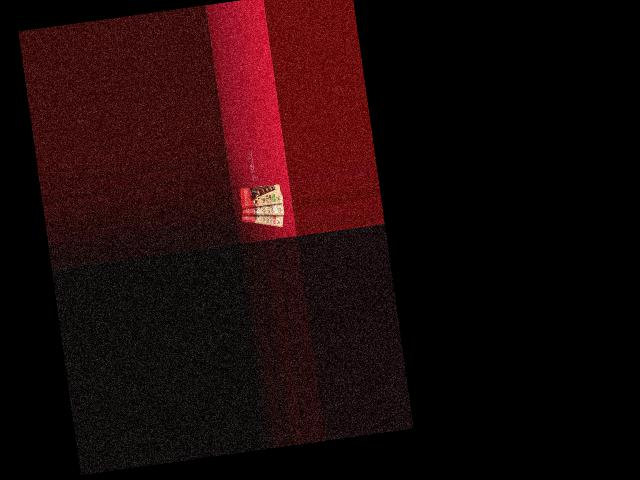chocolate: (238, 205, 287, 232)
